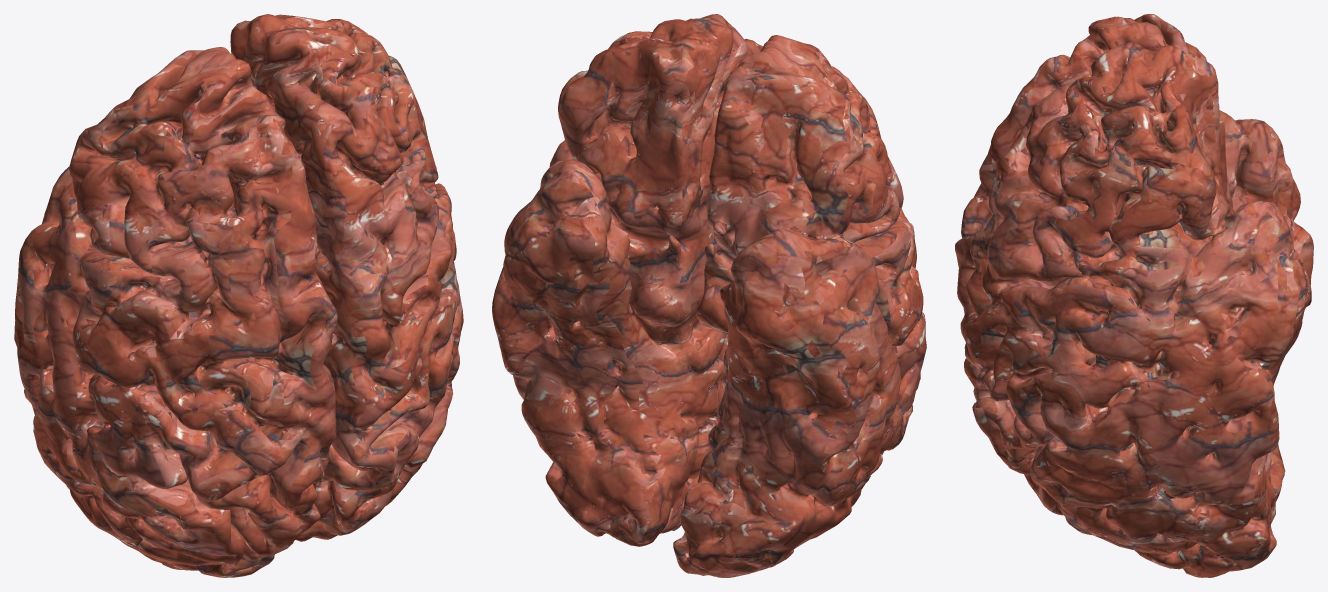
The model's file is Brain.FBX.
3 views of the same model, side by side, from view 1: azimuth 30°, elevation 25°; view 2: azimuth 150°, elevation 25°; view 3: azimuth 270°, elevation 25° (orthographic). The views are drawn at different scales.
Visible parts, largest first — view 1: Brain1; view 2: Brain1; view 3: Brain1.
Boxes of the visible parts, box(x1,y1,x2,y2) form: Brain1: box(14, 14, 463, 577); Brain1: box(492, 14, 926, 577); Brain1: box(955, 14, 1313, 577).
Size of the model in its own units: 131 by 178 by 110.
1 material, 1 textured.
